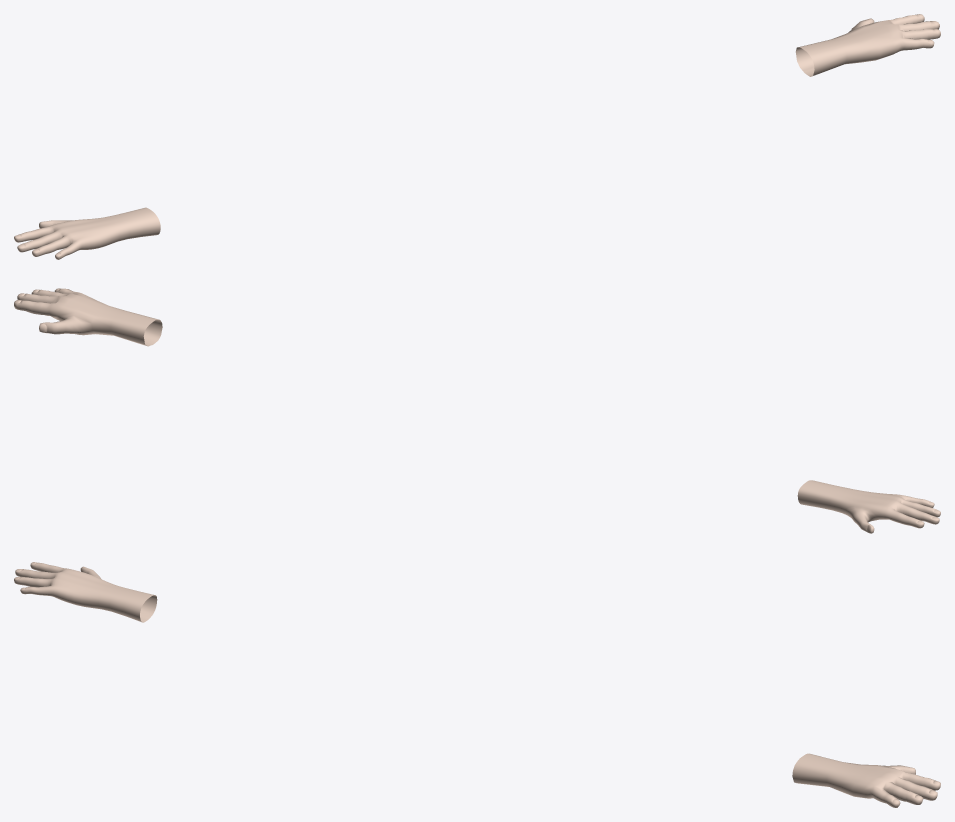
Rendered from Rigged Hand.fbx.
The picture shows the model from 3 angles, top to bottom: view 1: azimuth 30°, elevation 25°; view 2: azimuth 150°, elevation 25°; view 3: azimuth 330°, elevation 25°; orthographic projection.
Parts seen in each view (by area): view 1: Cube.000, Cube.005; view 2: Cube.000, Cube.005; view 3: Cube.000, Cube.005.
Boxes of the visible parts, <box> form: Cube.000: <box>795,14,940,76</box>; Cube.005: <box>14,207,160,259</box>; Cube.000: <box>14,288,162,346</box>; Cube.005: <box>797,480,940,533</box>; Cube.000: <box>792,753,940,807</box>; Cube.005: <box>14,562,157,622</box>.
Size of the model in its own units: 176 by 4.86 by 13.98.
